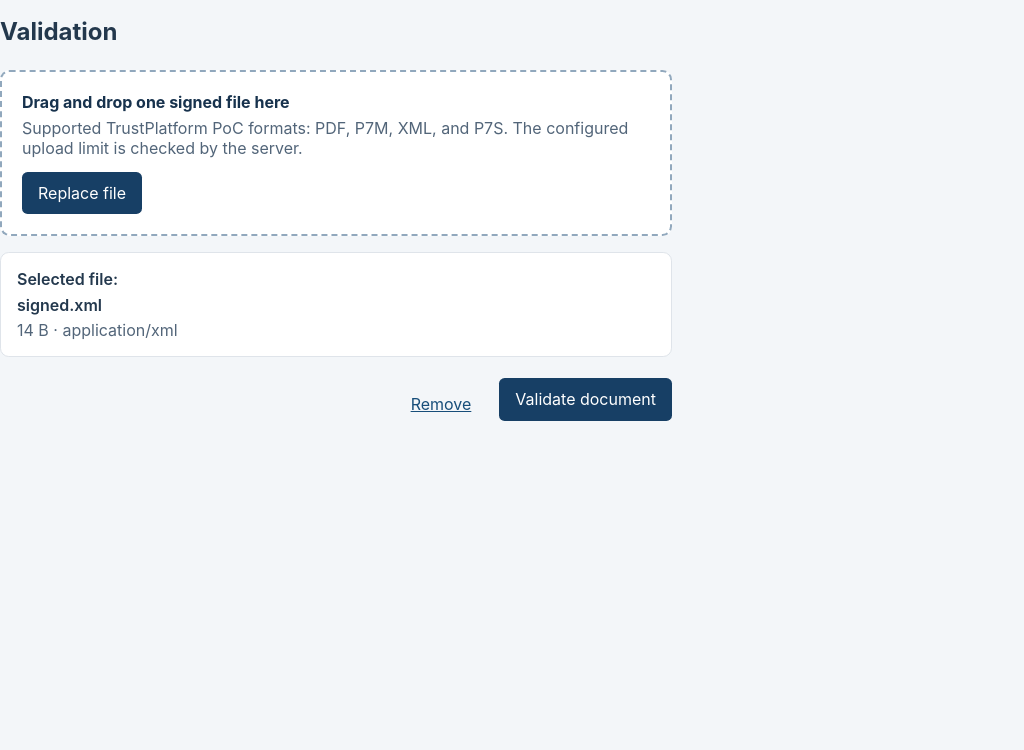
Test case: ValidationPage › uses one custom file button and accepts the current PoC formats
Earlier steps of the test are not shown.
Later steps or results of the test are not shown.
Expected: the text "signed.xml" is shown, left=17, top=295, right=102, bottom=315
Click the button "Validate document".
click(586, 400)  # box left=499, top=378, right=672, bottom=421
(page scrolled)
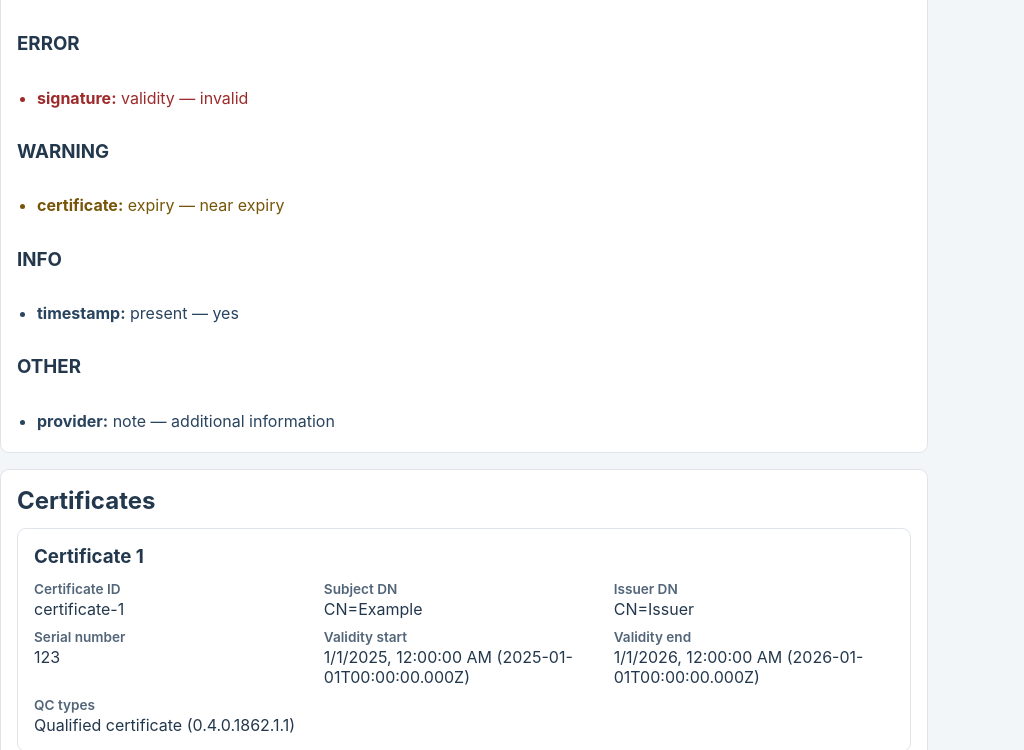
Expected: the text "Qualified certificate (0.4.0.1862.1.1)" is shown, left=34, top=715, right=295, bottom=735
Expected: the heading "ERROR" is shown, left=17, top=32, right=80, bottom=55
Expected: the heading "WARNING" is shown, left=17, top=140, right=109, bottom=163
